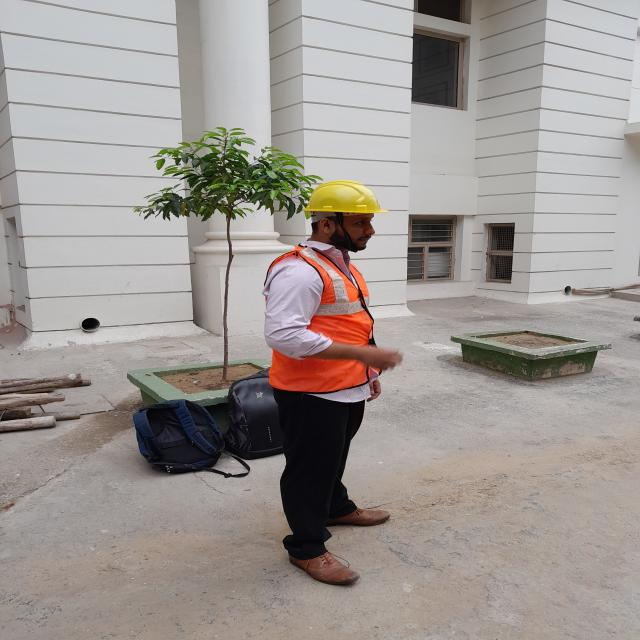safe: (264, 180, 399, 588)
